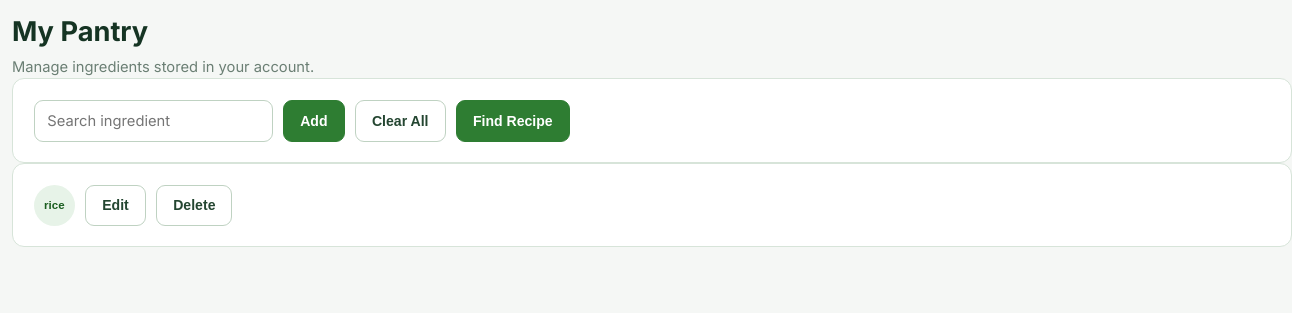
Test: PantryPage › supports add item flow and clicking Edit button
Expected: the button "rice" is shown, [34,185,75,226]
In the field with placeholder "Search ingredient": (153, 121) [34,100,273,142], type "tomato"
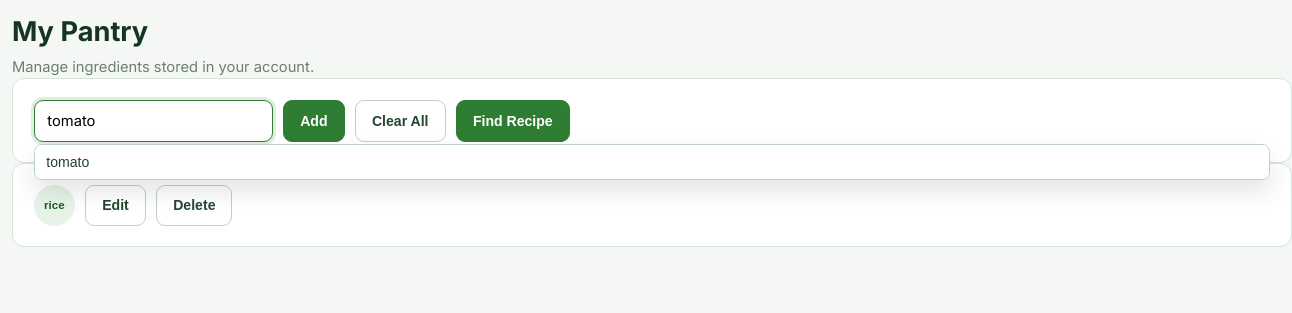
Click the button "Add": (314, 121) [283,100,344,142]
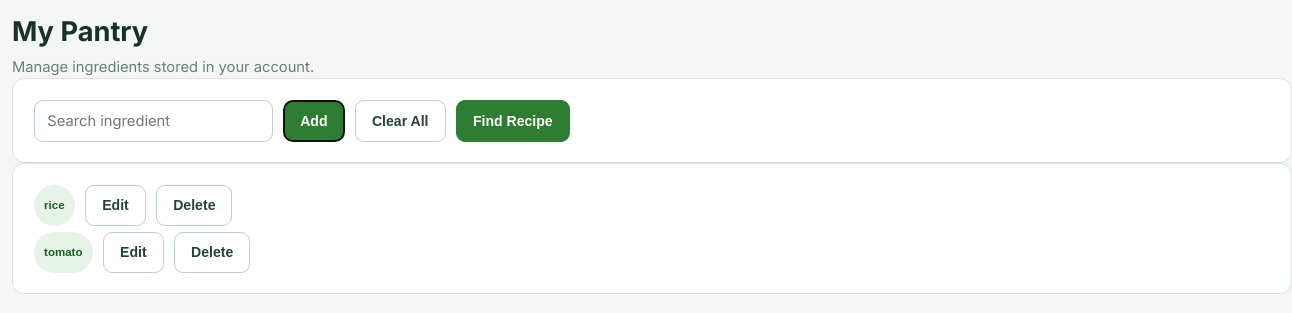
Now the button "tomato" is shown, box [34,232,93,273]
Click the 1st button "Edit": (116, 205) [85,185,146,226]
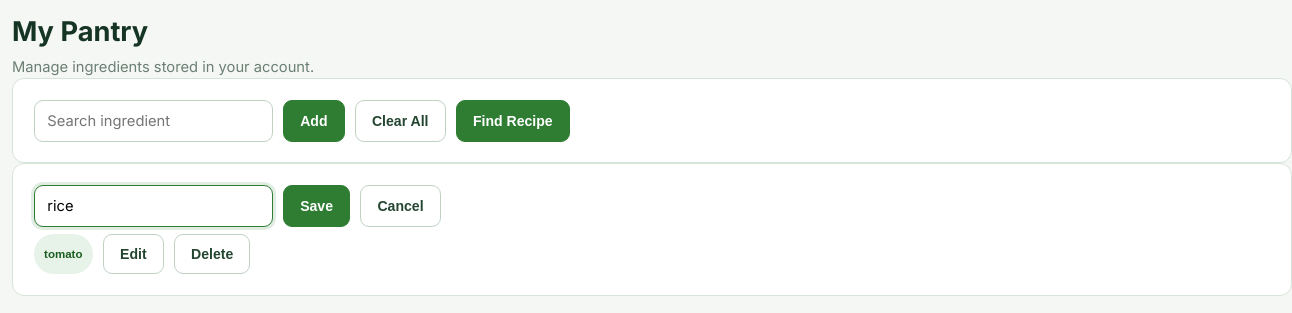
Now the field with placeholder "Update ingredient" is shown
Replace the text in the field with placeholder "Update ingredient" with "brown rice": (153, 206) [34,185,273,227]
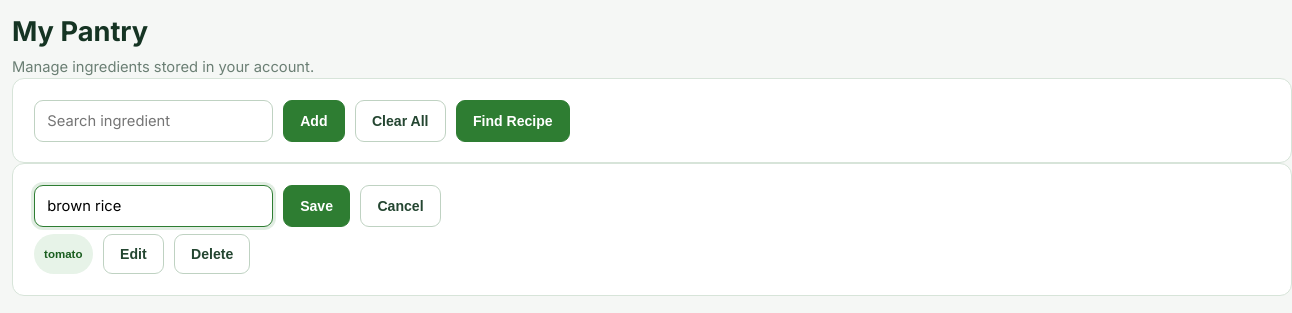
Click the button "Save": (317, 206) [283,185,350,227]
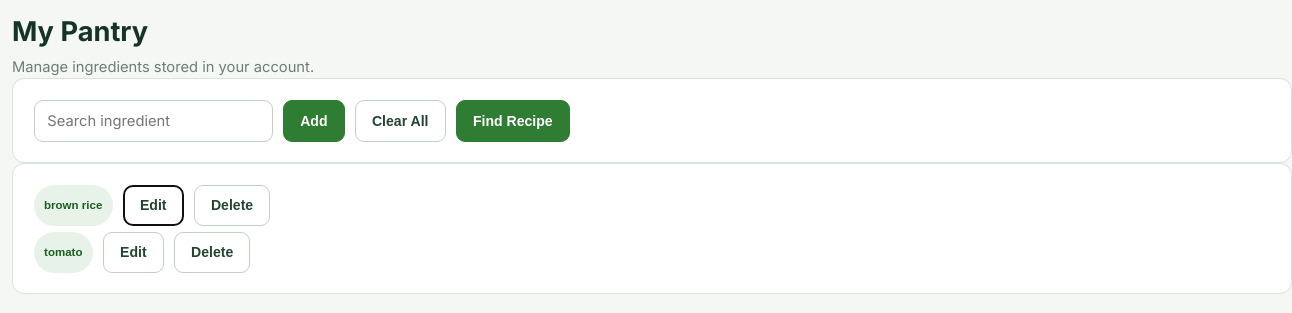
Now the button "brown rice" is shown, box [34,185,113,226]
